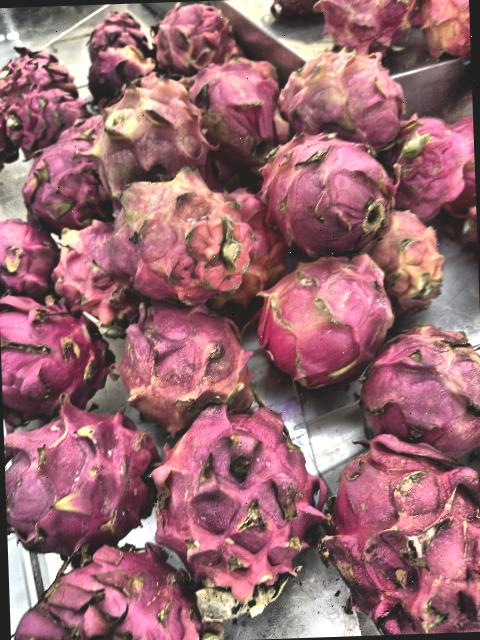buah-naga-belum-matang: (107, 182, 252, 296), (77, 68, 210, 182), (119, 300, 247, 410), (270, 51, 404, 148), (372, 211, 444, 311), (83, 46, 151, 92)
buah-naga-matang: (154, 401, 331, 619), (318, 432, 480, 637), (4, 402, 163, 555), (9, 542, 204, 640), (262, 251, 394, 377), (357, 326, 480, 454), (257, 138, 390, 250), (0, 279, 109, 413), (189, 52, 292, 164), (48, 221, 137, 331), (386, 115, 474, 222), (20, 140, 104, 224), (147, 2, 243, 70), (0, 209, 58, 289), (5, 87, 88, 140), (78, 8, 150, 56), (0, 49, 65, 92)
